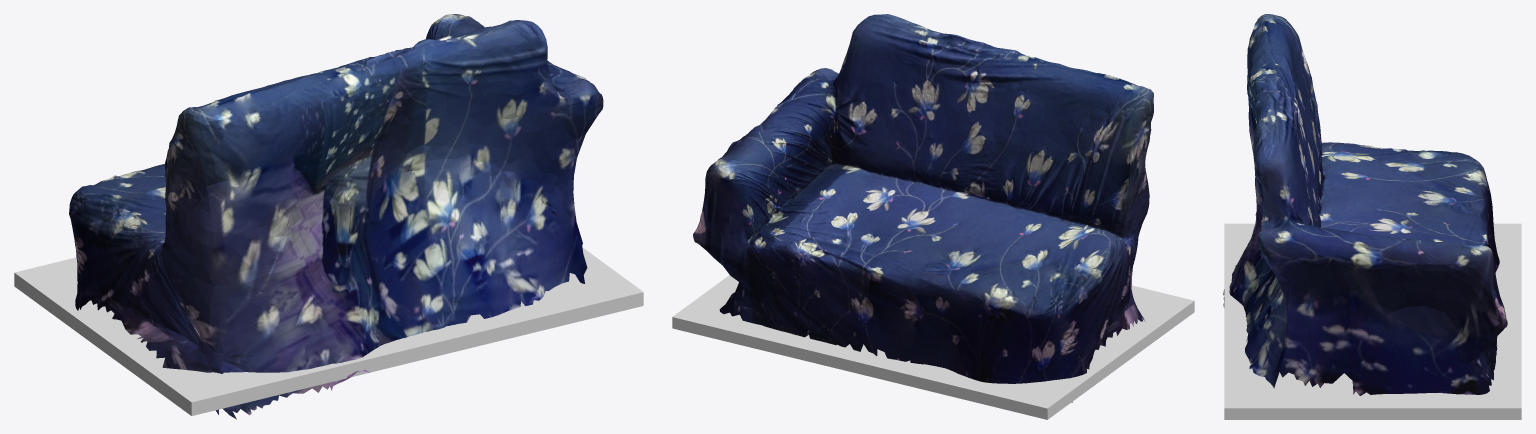
The model's file is 1774506314_dsofa-blue.glb.
The picture shows the model from 3 angles, left to right: view 1: azimuth 30°, elevation 25°; view 2: azimuth 150°, elevation 25°; view 3: azimuth 270°, elevation 25°; orthographic projection. The views are drawn at different scales.
Visible parts, largest first — view 1: Mesh_0, Cube; view 2: Mesh_0, Cube; view 3: Mesh_0, Cube.
Part boxes in pixels (<box>): Mesh_0: <box>69,14,603,419</box>; Cube: <box>14,247,643,415</box>; Mesh_0: <box>693,14,1153,402</box>; Cube: <box>672,275,1194,419</box>; Mesh_0: <box>1223,14,1507,395</box>; Cube: <box>1224,223,1521,419</box>.
Size of the model in its own units: 0.8368 by 0.5525 by 0.5711.
Materials: 1 (1 with a texture image).
